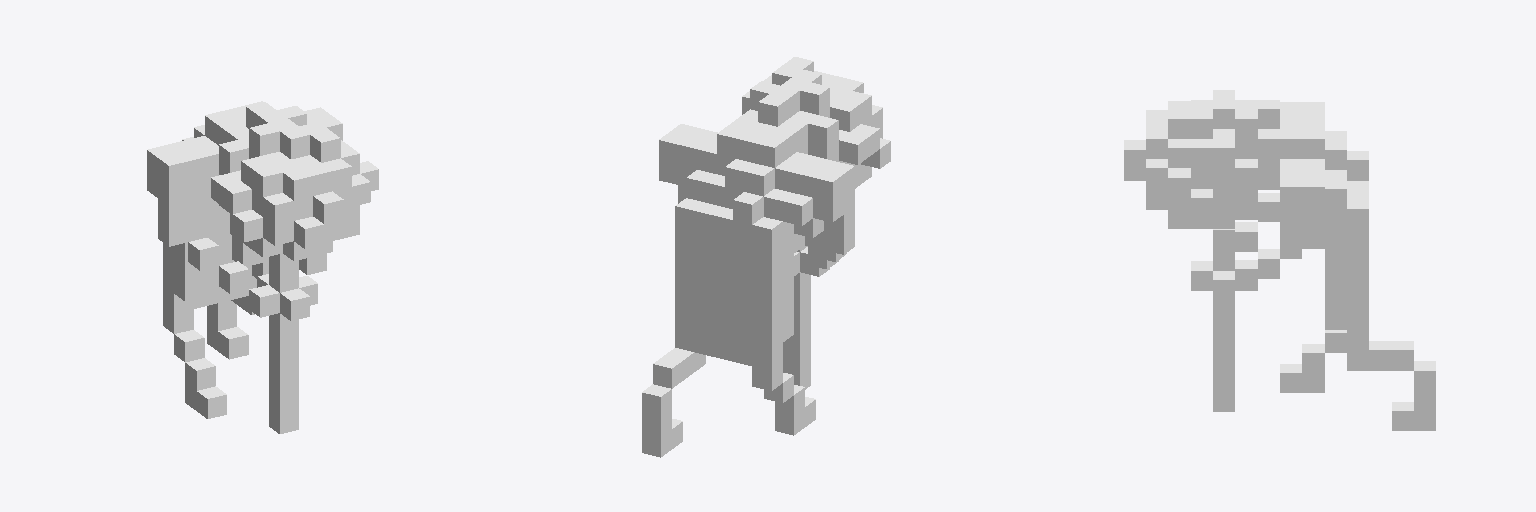
File: SpinningGirlCharacter-6.obj
3 views of the same model, side by side, from view 1: azimuth 30°, elevation 25°; view 2: azimuth 150°, elevation 25°; view 3: azimuth 270°, elevation 25° (orthographic).
Parts seen in each view (by area): view 1: SpinningGirlCharacter-6; view 2: SpinningGirlCharacter-6; view 3: SpinningGirlCharacter-6.
Boxes of the visible parts, x1=… form: SpinningGirlCharacter-6: x1=147, y1=101, x2=378, y2=433; SpinningGirlCharacter-6: x1=642, y1=57, x2=890, y2=457; SpinningGirlCharacter-6: x1=1124, y1=90, x2=1435, y2=430.
Bounding box in the file's own units: 9 × 15 × 14.